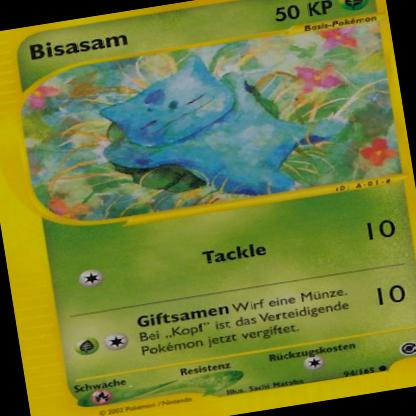Bulbasaur: (89, 30, 356, 220)
